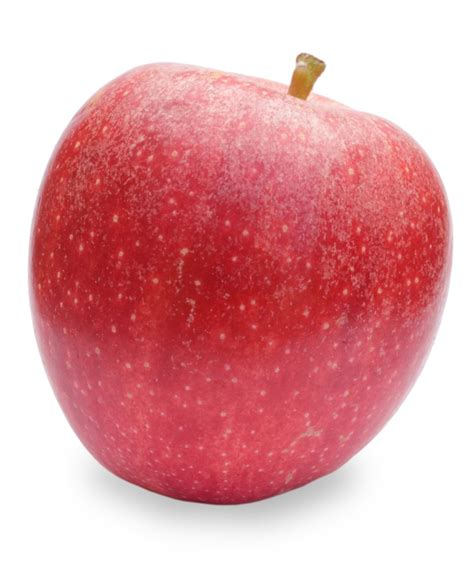apple: (24, 58, 460, 515)
